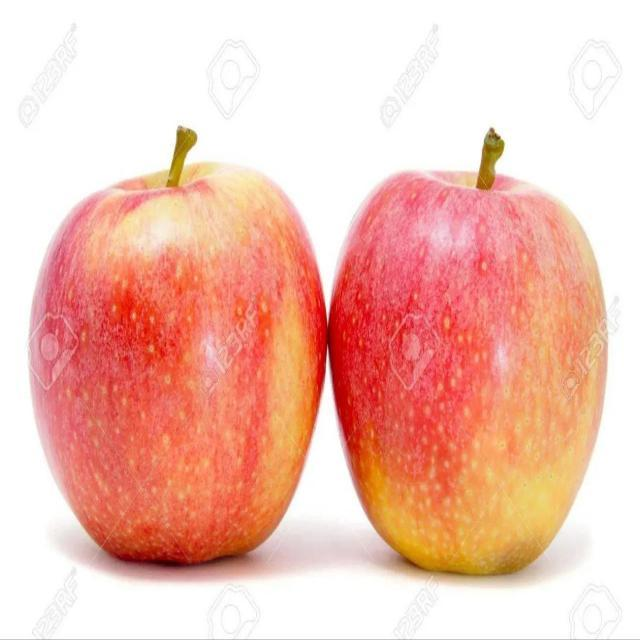Fresh Apple: (28, 168, 322, 564), (342, 178, 600, 575)
